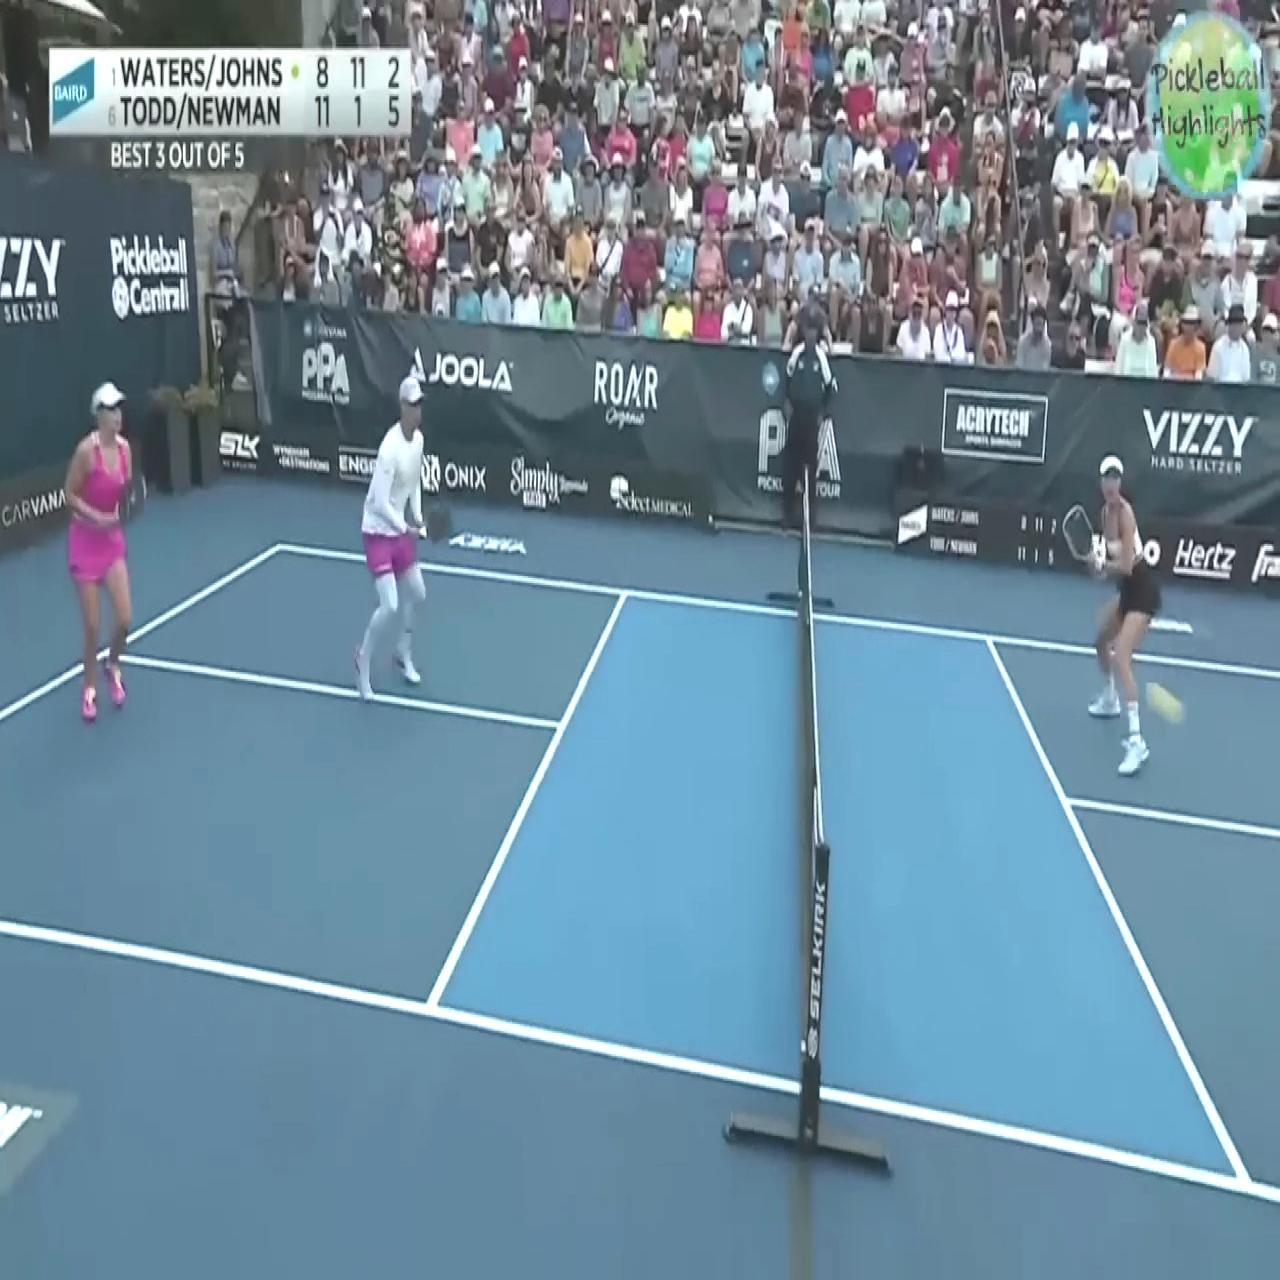Pickleball: (1143, 675, 1183, 733)
